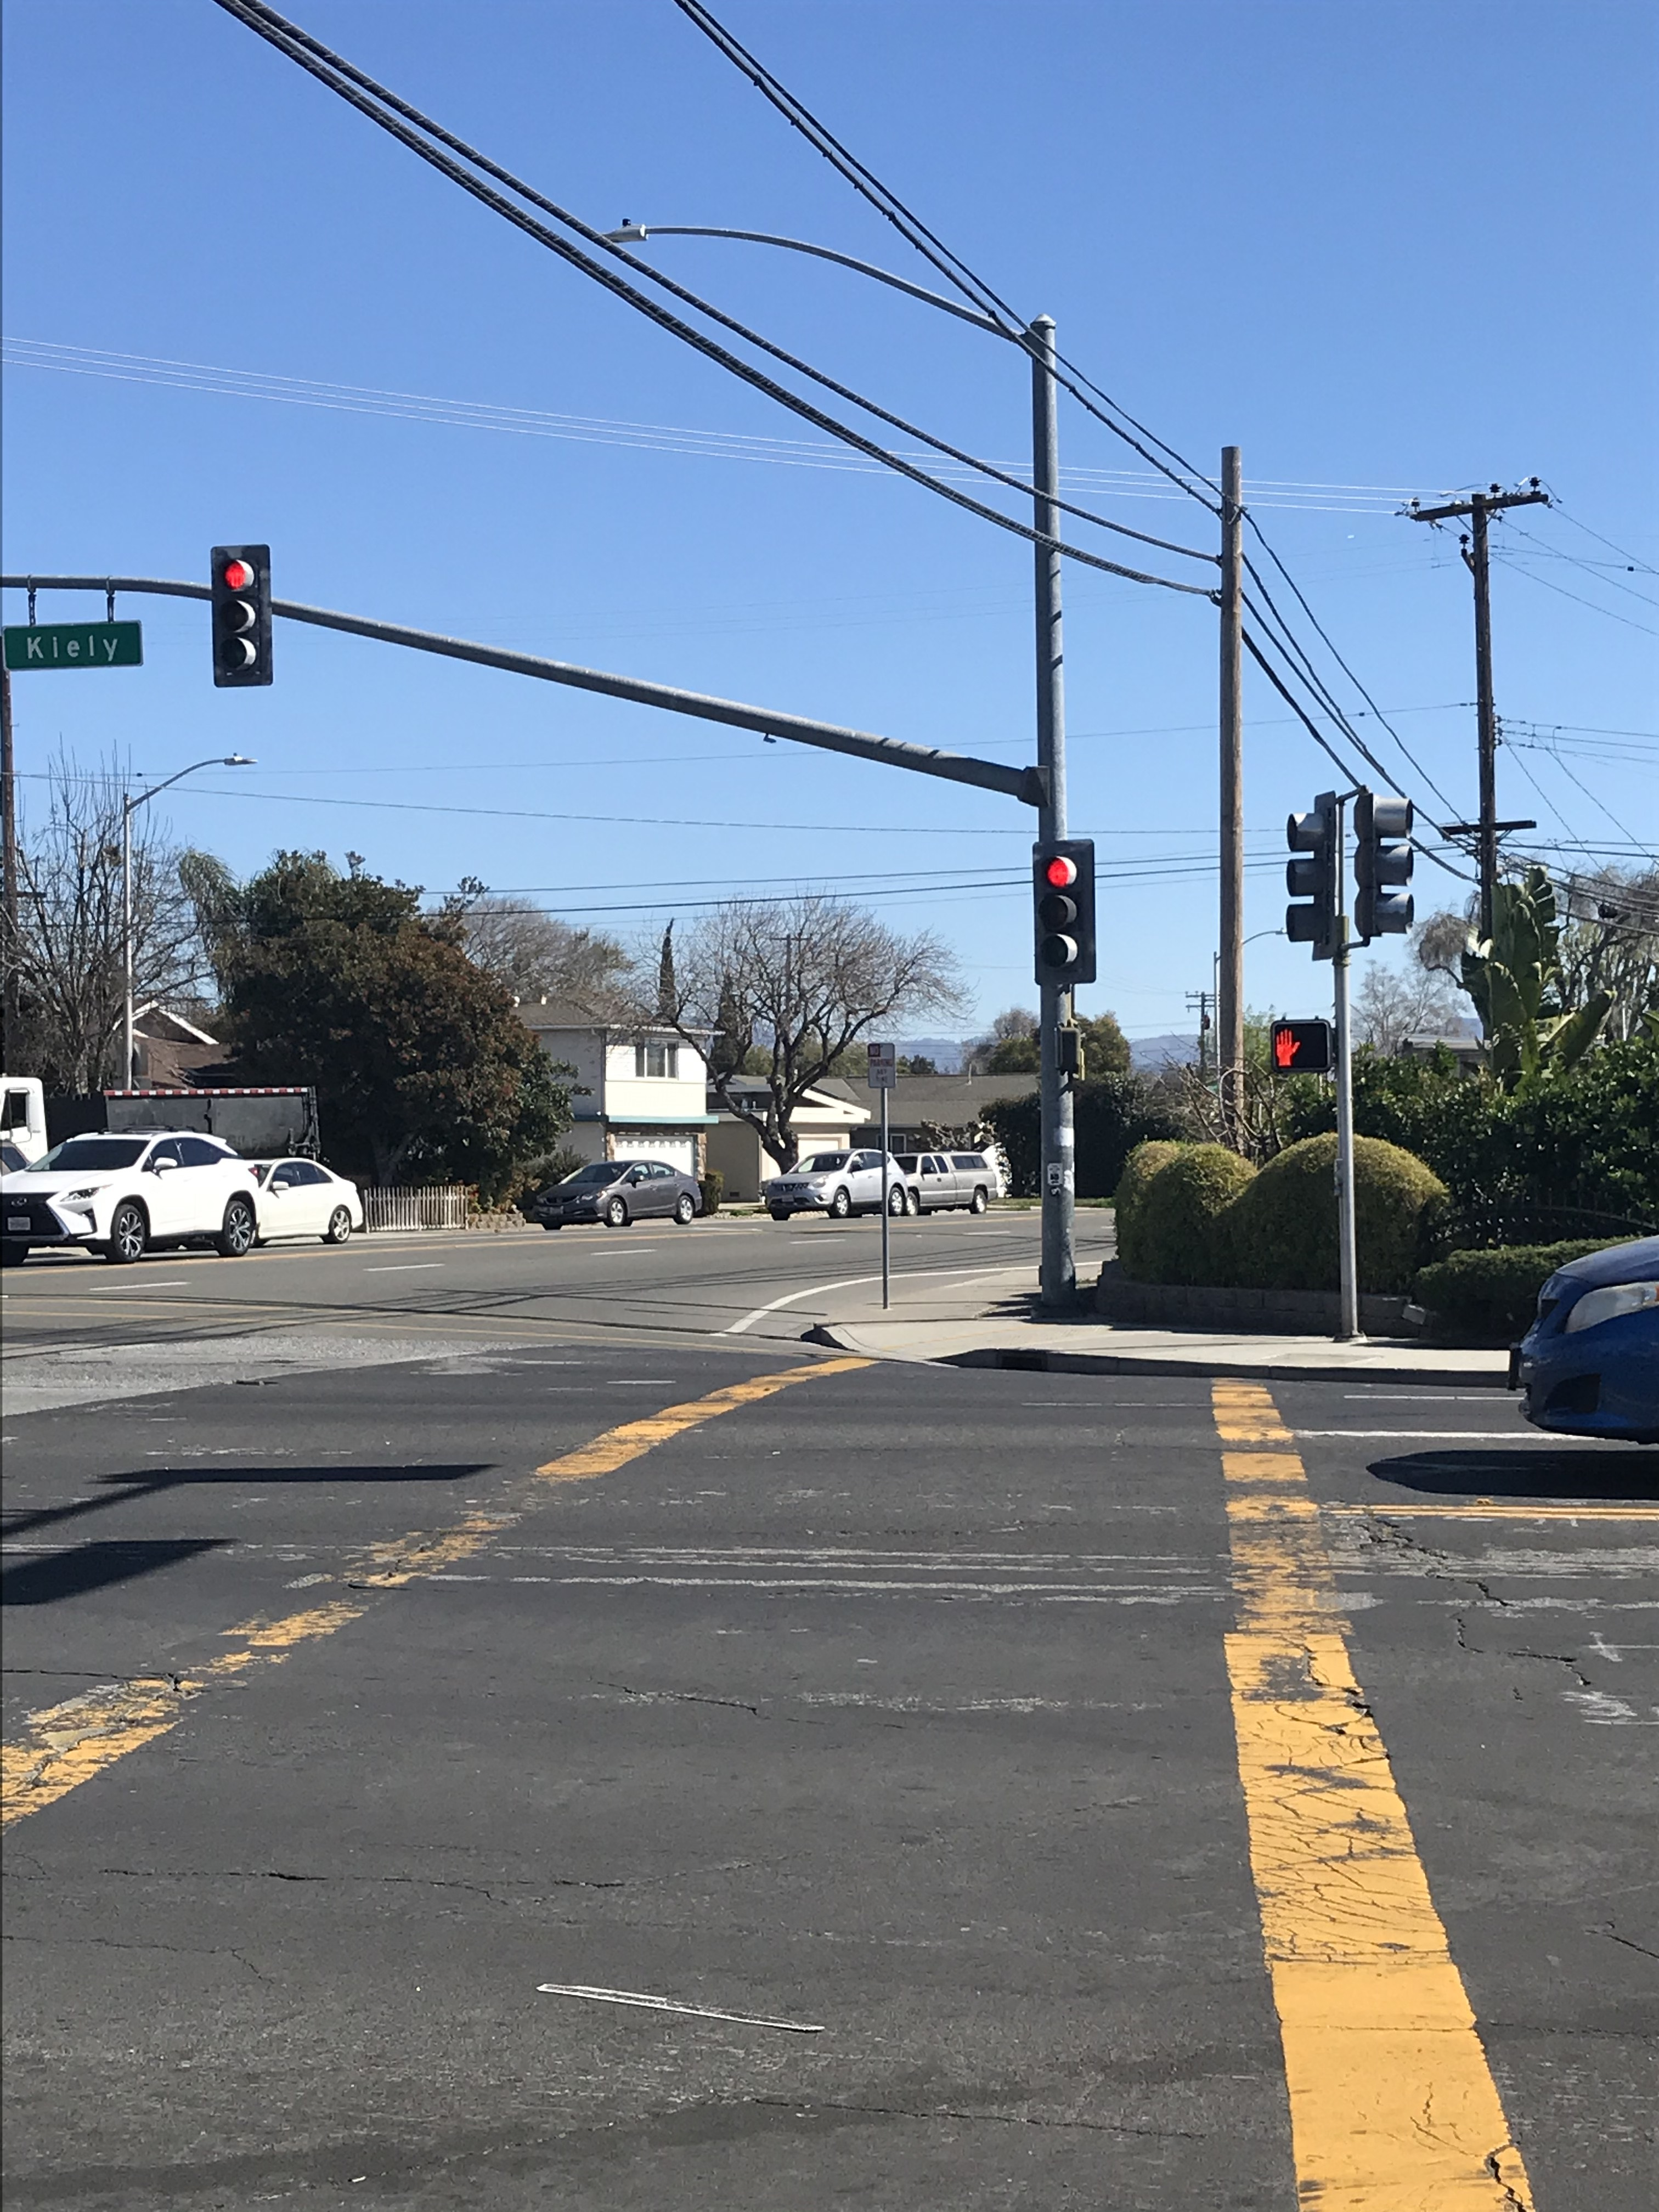red_light: (1032, 841, 1091, 984), (218, 552, 270, 681)
